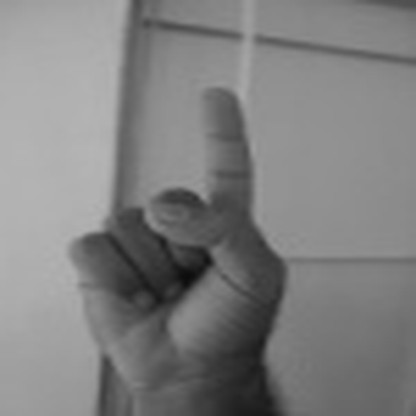d: (63, 82, 290, 378)
